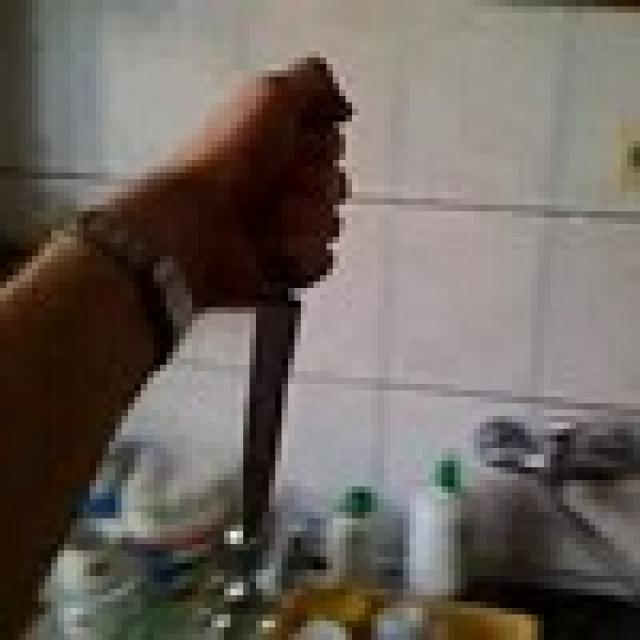weapon: (237, 64, 346, 544)
